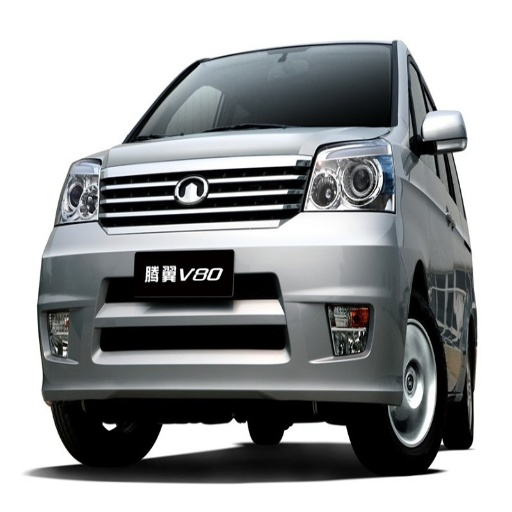front_bumper: (42, 156, 400, 405)
front_glass: (126, 46, 394, 142)
front_left_door: (403, 63, 434, 157)
front_left_light: (306, 145, 394, 210)
front_right_light: (57, 158, 101, 221)
hood: (105, 128, 386, 172)
